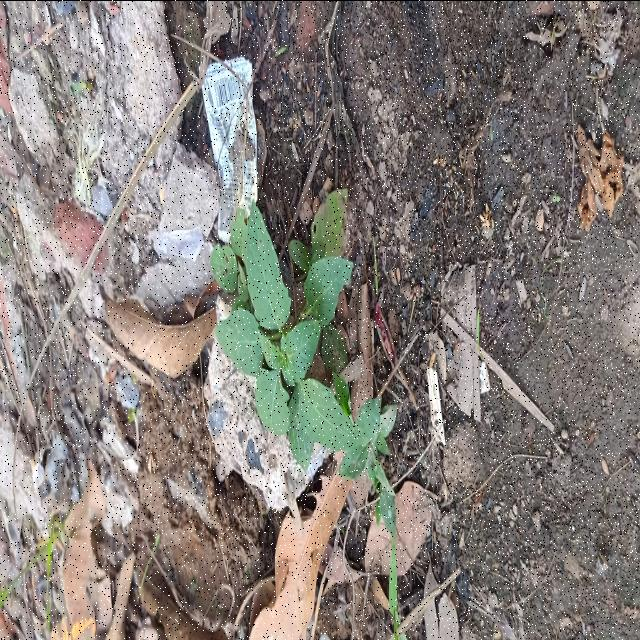plant: (211, 188, 402, 634)
